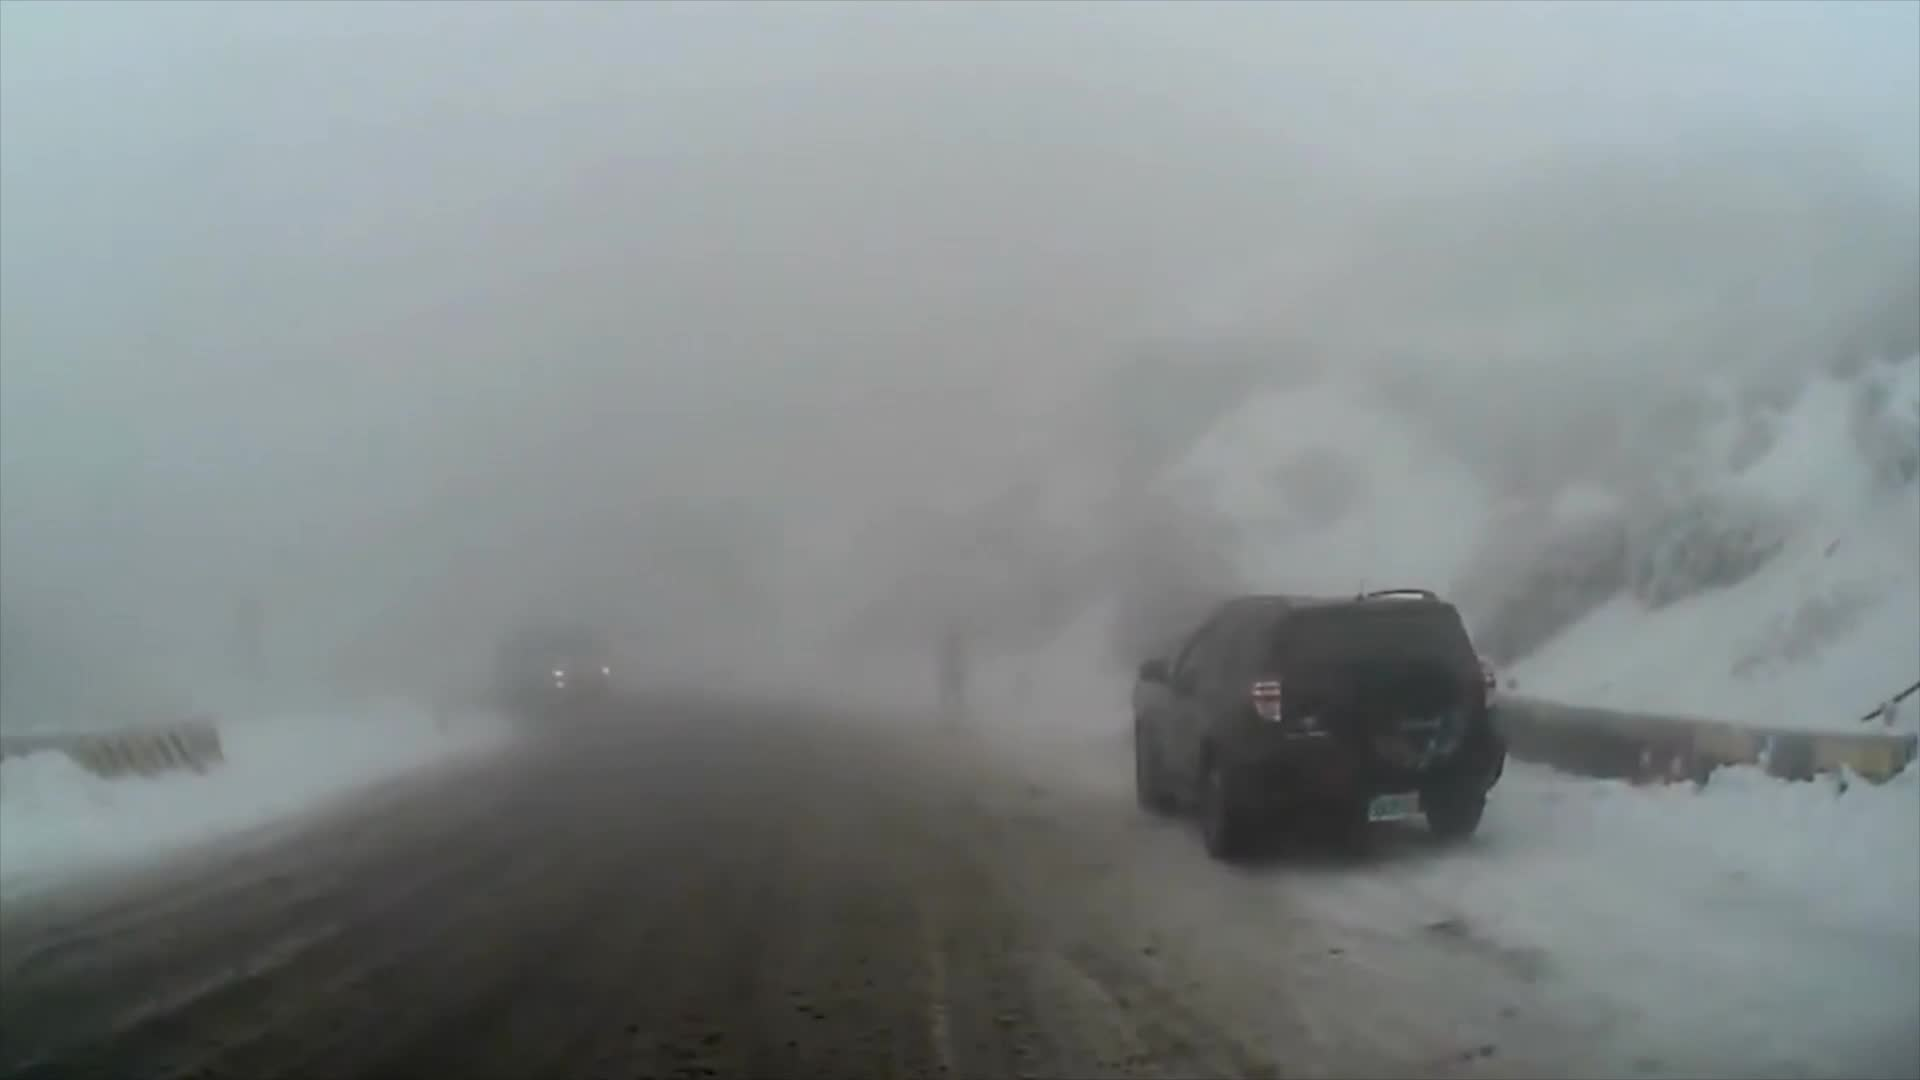vehicle: (1130, 584, 1510, 868)
